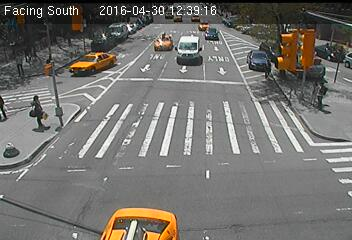neg: (296, 156, 342, 218), (270, 120, 297, 156), (122, 185, 145, 216), (168, 69, 190, 99), (238, 83, 257, 108), (105, 100, 124, 124)
pos: (17, 88, 53, 135), (310, 78, 336, 112), (304, 80, 325, 109), (10, 51, 29, 76)
